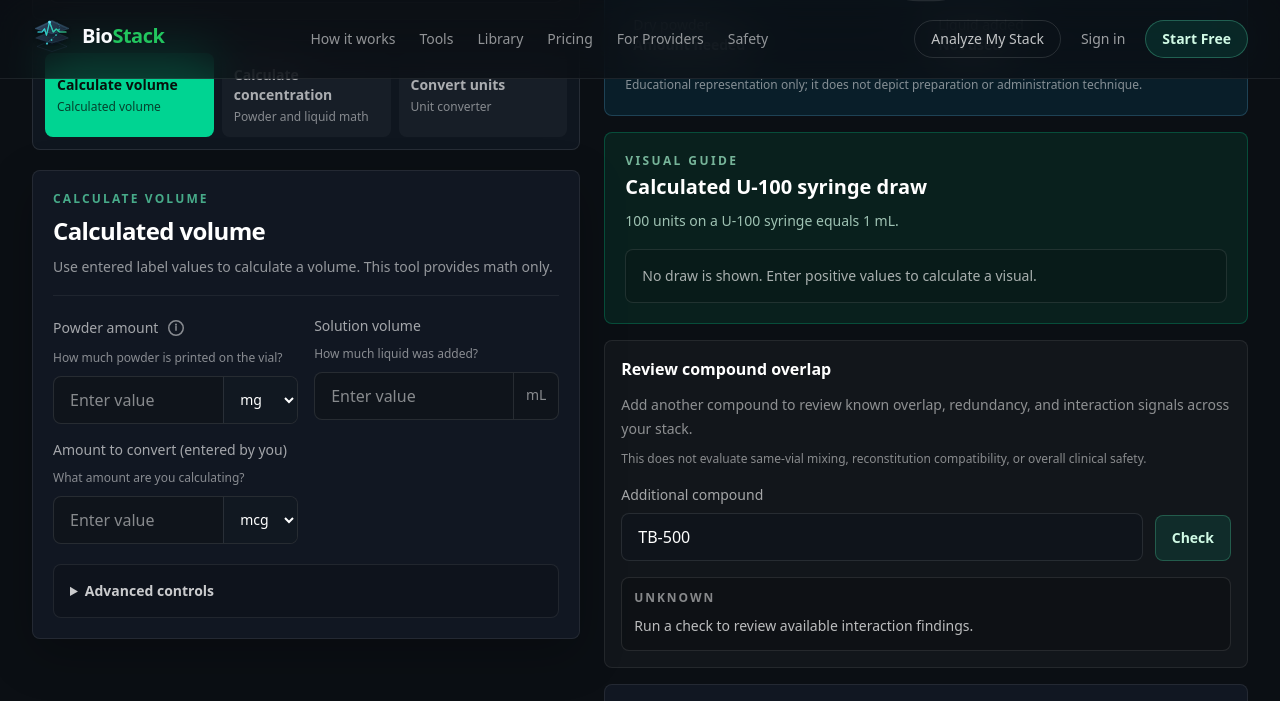
Test: active /tools calculator visuals › flags unit mismatch and order-of-magnitude values without recommending a dose
(page scrolled)
Type "5" into the number field named "Powder amount".
click(139, 400); type("5")  # box [54,376,223,422]
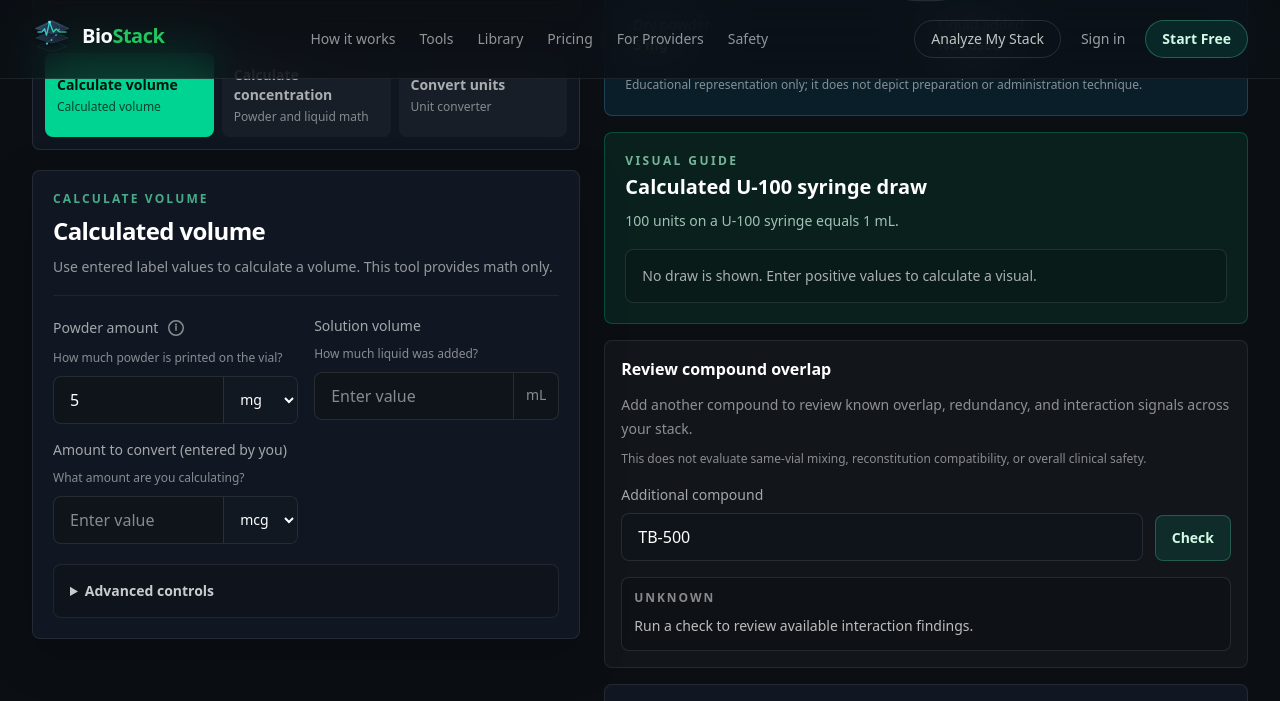
Type "2" into the number field labelled "Solution volume How much liquid was added? mL".
click(414, 396); type("2")  # box [315,372,513,418]
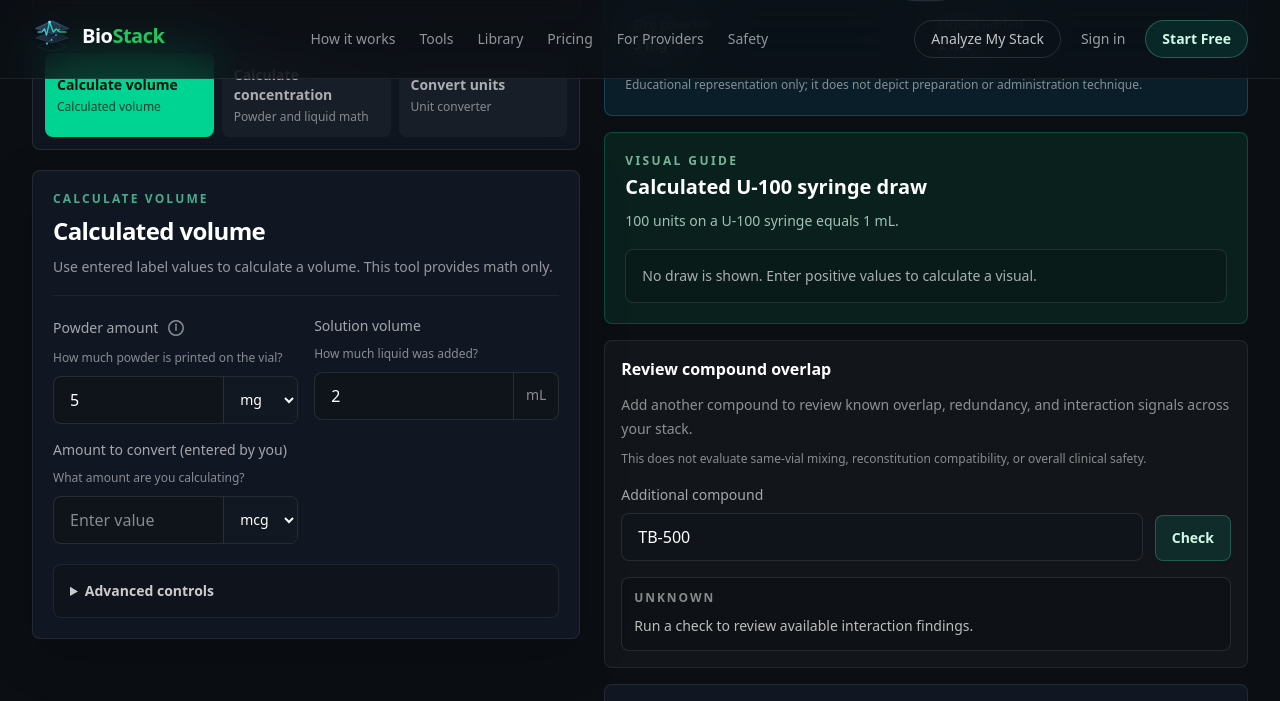
Type "250" into the 3rd number field.
click(139, 520); type("250")  # box [54,496,223,542]
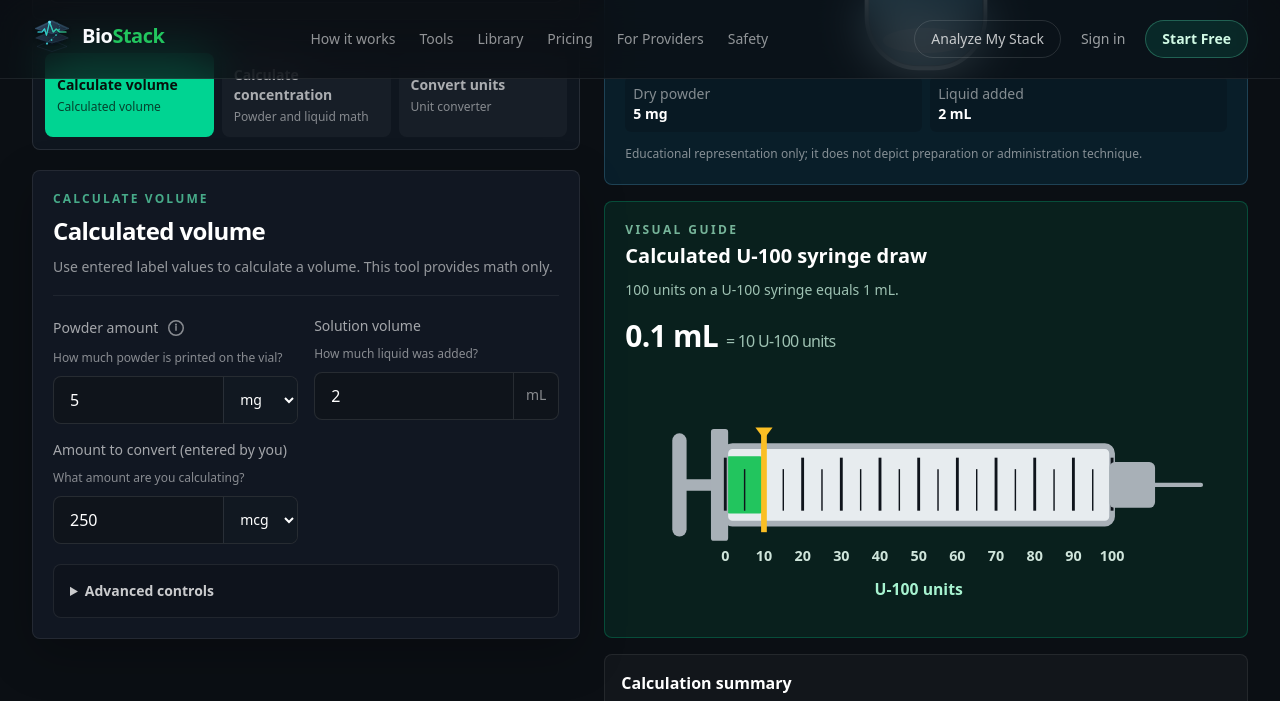
Replace the text in the 3rd number field with "5" at {"x": 139, "y": 520}, box [54,496,223,542]
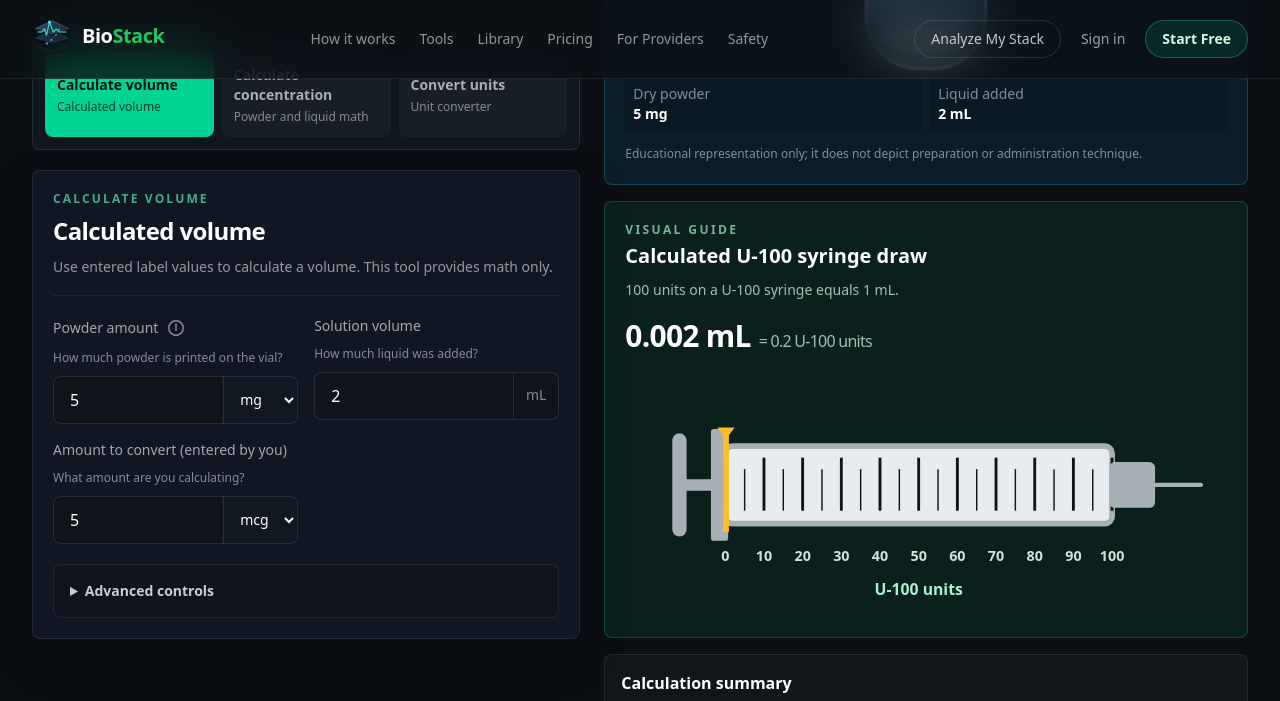
Select "g" in the 2nd dropdown at {"x": 260, "y": 520}, box [223,496,297,542]
(page scrolled)
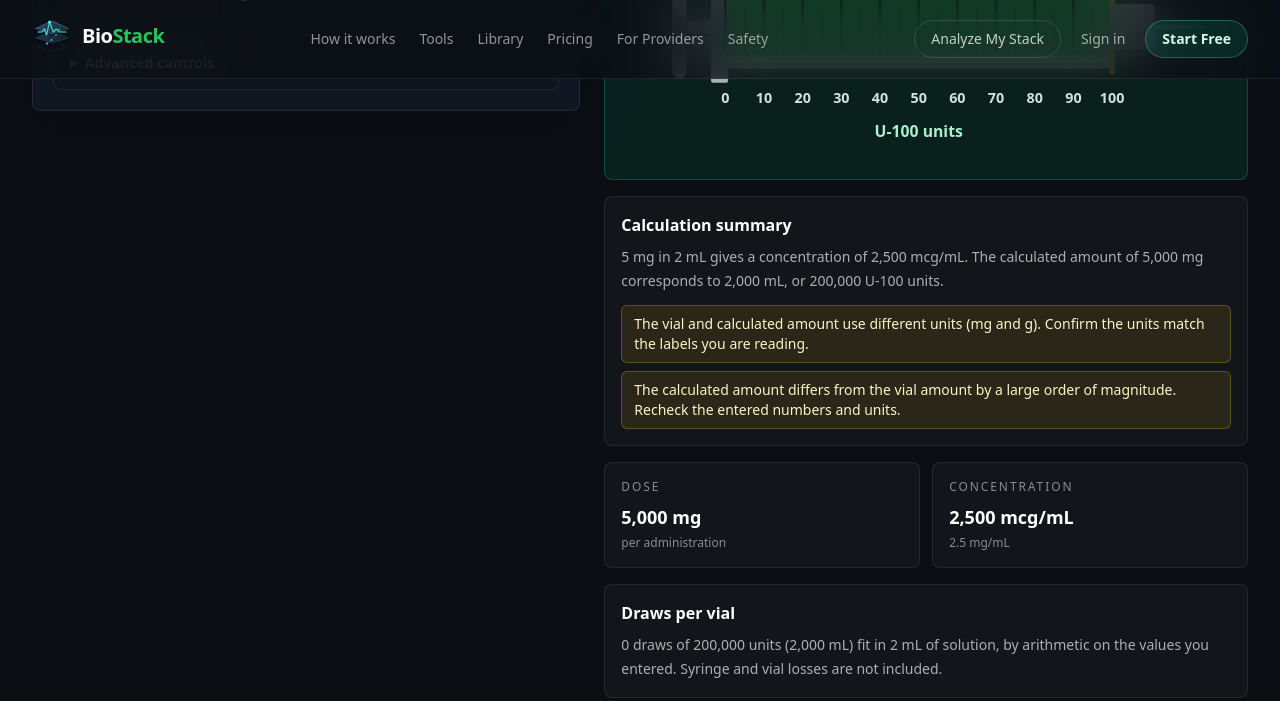
Check: the text "vial and calculated amount use different units" is shown, box [634,314,1204,353]
Check: the text "differs from the vial amount by a large order of magnitude" is shown, box [634,380,1176,419]
